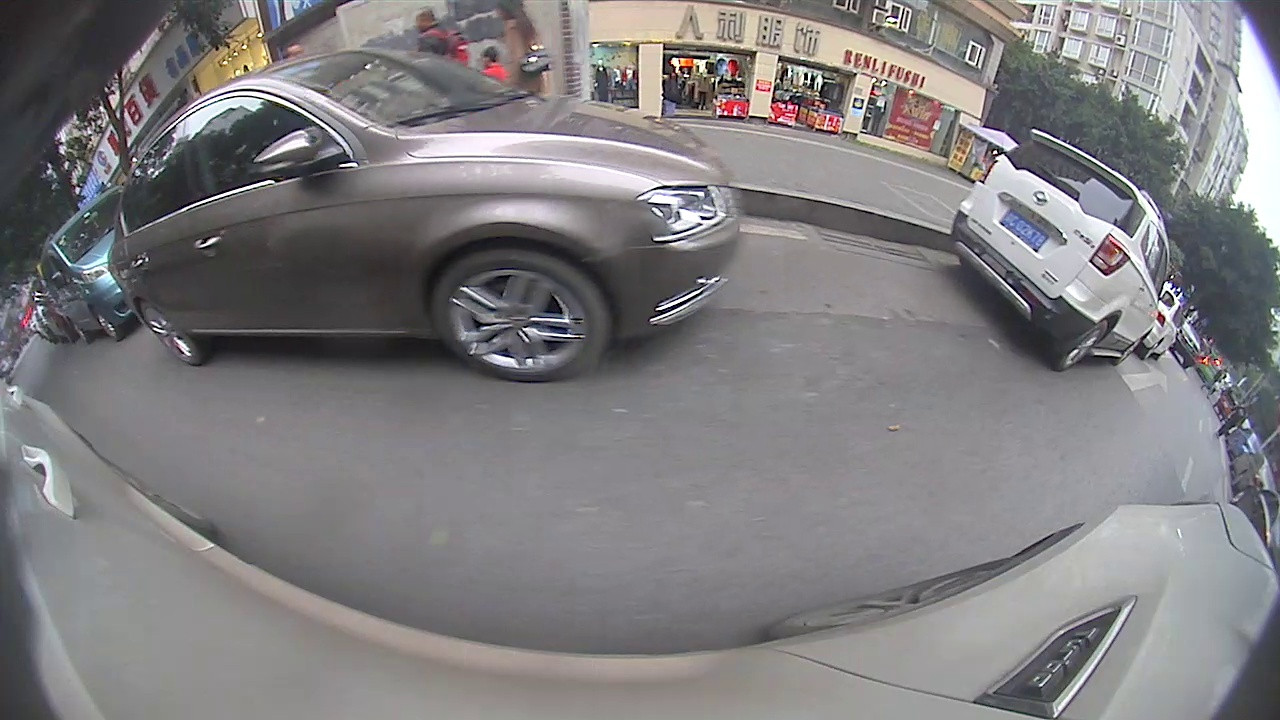car: (107, 45, 743, 385), (950, 127, 1171, 372), (38, 183, 146, 343)
front: (423, 252, 608, 384), (93, 306, 122, 345), (1113, 336, 1147, 368)
rear: (135, 300, 201, 367), (1052, 322, 1112, 375), (67, 320, 91, 346)
